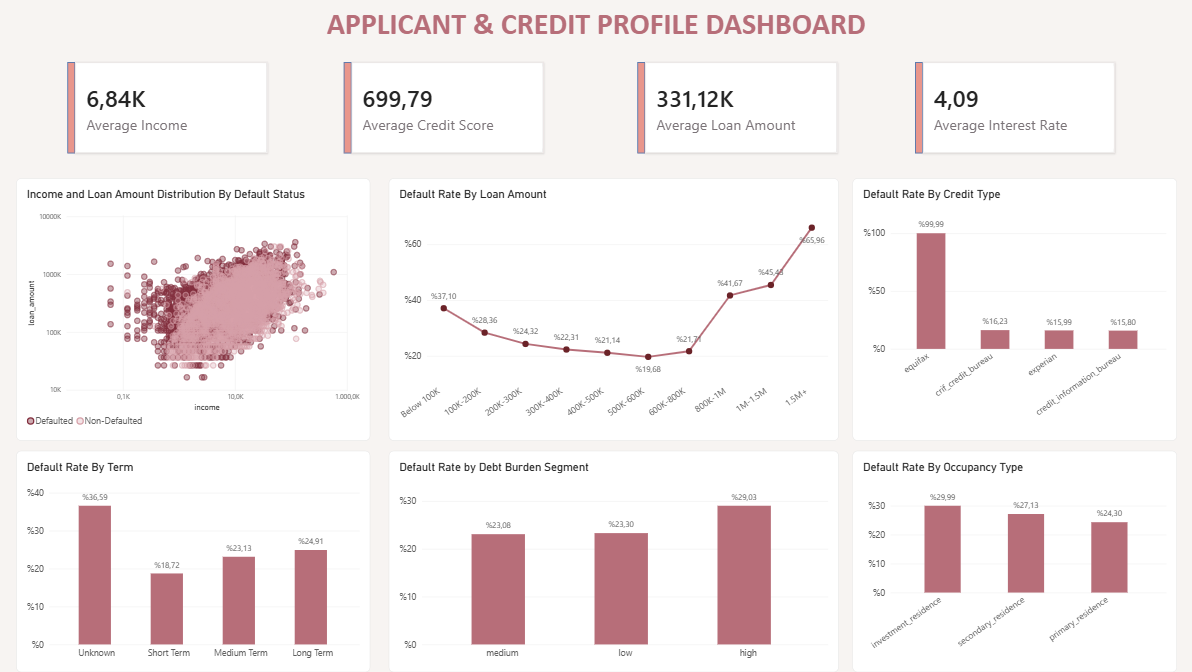

Layout of this report page (visuals, bound fields, positions):
{"tool":"powerbi","page":{"name":"Page 2","canvas":[1920,1080],"ordinal":1},"visuals":[{"type":"textbox","box":[399.3,14.4,1123.8,90.6],"z":0},{"type":"cardVisual","fields":{"Data":["gold fact_loan_application.avg_interest_rate"]},"box":[1484,103.2,308.7,146.1],"z":1,"group":"g4"},{"type":"cardVisual","fields":{"Data":["gold fact_loan_application.avg_income"]},"box":[128.5,105,308.7,146.1],"z":1,"group":"g1"},{"type":"cardVisual","fields":{"Data":["gold fact_loan_application.avg_credit_score"]},"box":[570.1,105,308.7,146.1],"z":1,"group":"g2"},{"type":"cardVisual","fields":{"Data":["gold fact_loan_application.avg_loan_amount"]},"box":[1040.6,105,308.7,146.1],"z":1,"group":"g3"},{"type":"shape","box":[1471.3,103.2,12.3,146.1],"z":8,"group":"g4"},{"type":"shape","box":[115.8,105,12.3,146.1],"z":8,"group":"g1"},{"type":"shape","box":[557.4,105,12.3,146.1],"z":8,"group":"g2"},{"type":"shape","box":[1027.9,105,12.3,146.1],"z":8,"group":"g3"},{"type":"group","id":"g1","title":"Group 1","box":[115.8,105,322.1,146.6],"z":9},{"type":"group","id":"g2","title":"Group 1","box":[557.4,105,322.1,146.6],"z":10},{"type":"group","id":"g3","title":"Group 1","box":[1027.9,105,322.1,146.6],"z":11},{"type":"group","id":"g4","title":"Group 1","box":[1471.3,103.2,322.1,146.6],"z":12},{"type":"clusteredColumnChart","title":"Default Rate by Debt Burden Segment","fields":{"Category":["gold fact_loan_application.debt_burden_segment"],"Y":["gold dim_application.default_rate"]},"box":[629.8,725.7,720.2,354.7],"z":14},{"type":"lineChart","title":"Default Rate By Loan Amount","fields":{"Category":["gold fact_loan_application.loan_amount_group"],"Y":["gold dim_application.default_rate"]},"box":[629.8,289.5,720.2,419.8],"z":15},{"type":"clusteredColumnChart","title":"Default Rate By Term","fields":{"Category":["gold fact_loan_application.term_group"],"Y":["gold dim_application.default_rate"]},"box":[34.4,725.7,566.4,354.7],"z":16},{"type":"clusteredColumnChart","title":"Default Rate By Credit Type","fields":{"Category":["gold dim_credit_profile.credit_type"],"Y":["gold dim_application.default_rate"]},"box":[1371.7,289.5,519.4,419.8],"z":17},{"type":"clusteredColumnChart","title":"Default Rate By Occupancy Type","fields":{"Category":["gold dim_property.occupancy_type"],"Y":["gold dim_application.default_rate"]},"box":[1371.7,725.7,519.4,354.7],"z":18},{"type":"scatterChart","title":"Income and Loan Amount Distribution By Default Status","fields":{"Series":["gold fact_loan_application.default_status"],"X":["gold fact_loan_application.income"],"Y":["gold fact_loan_application.loan_amount"]},"box":[34.4,289.5,566.4,419.8],"z":19}]}

Visuals, with their boxes in screenshot pixels (x1, y1, x2, y2), scaled from the page's 1920x1080 canvas onto the 1192x672 screenshot:
textbox: BBox(248, 9, 946, 65)
cardVisual - gold fact_loan_application.avg_interest_rate: BBox(921, 64, 1113, 155)
cardVisual - gold fact_loan_application.avg_income: BBox(80, 65, 271, 156)
cardVisual - gold fact_loan_application.avg_credit_score: BBox(354, 65, 546, 156)
cardVisual - gold fact_loan_application.avg_loan_amount: BBox(646, 65, 838, 156)
shape: BBox(913, 64, 921, 155)
shape: BBox(72, 65, 80, 156)
shape: BBox(346, 65, 354, 156)
shape: BBox(638, 65, 646, 156)
"Group 1" group: BBox(72, 65, 272, 157)
"Group 1" group: BBox(346, 65, 546, 157)
"Group 1" group: BBox(638, 65, 838, 157)
"Group 1" group: BBox(913, 64, 1113, 155)
"Default Rate by Debt Burden Segment" clusteredColumnChart: BBox(391, 452, 838, 671)
"Default Rate By Loan Amount" lineChart: BBox(391, 180, 838, 441)
"Default Rate By Term" clusteredColumnChart: BBox(21, 452, 373, 671)
"Default Rate By Credit Type" clusteredColumnChart: BBox(852, 180, 1174, 441)
"Default Rate By Occupancy Type" clusteredColumnChart: BBox(852, 452, 1174, 671)
"Income and Loan Amount Distribution By Default Status" scatterChart: BBox(21, 180, 373, 441)
